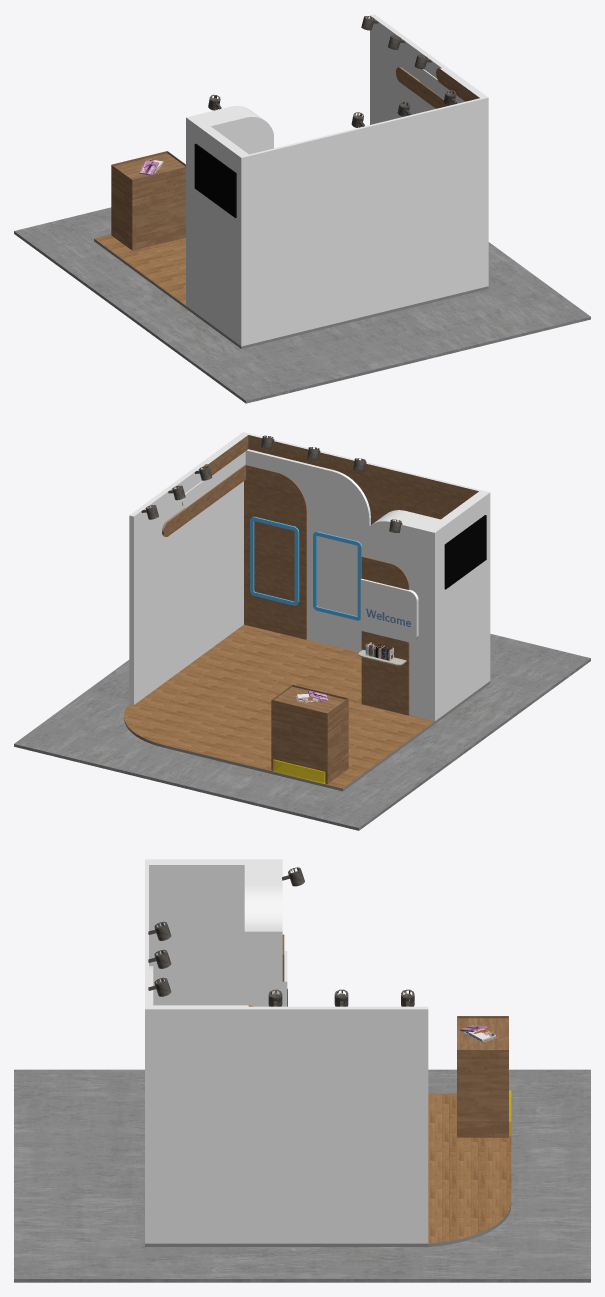
File: stand.glb
3 renders of one model, top to bottom at view 1: azimuth 30°, elevation 25°; view 2: azimuth 150°, elevation 25°; view 3: azimuth 270°, elevation 25°, orthographic. The views are drawn at different scales.
Visible parts, largest first — view 1: Material2.004, Material2.003, Material3, Material2.002, Cube, Material2.001, Material2.039; view 2: Material2.004, Material2.003, Material3, Material2.002, Material2.044, Cube, Material2.001, Material2.039, Material2.005; view 3: Material2.004, Material2.003, Material2.002, Material3, Material2.039, Material2.001.
Boxes of the visible parts, left/top/right/bottom form: Material2.004: left=186, top=14, right=488, bottom=346; Material2.003: left=14, top=207, right=590, bottom=403; Material3: left=111, top=67, right=479, bottom=250; Material2.002: left=94, top=234, right=185, bottom=305; Cube: left=194, top=143, right=236, bottom=218; Material2.001: left=94, top=239, right=488, bottom=348; Material2.039: left=208, top=16, right=456, bottom=127; Material2.004: left=129, top=432, right=490, bottom=721; Material2.003: left=14, top=633, right=590, bottom=830; Material3: left=164, top=435, right=478, bottom=783; Material2.002: left=124, top=624, right=434, bottom=788; Material2.044: left=250, top=516, right=361, bottom=620; Cube: left=444, top=515, right=486, bottom=589; Material2.001: left=124, top=681, right=490, bottom=791; Material2.039: left=141, top=435, right=402, bottom=532; Material2.005: left=273, top=759, right=325, bottom=783; Material2.004: left=145, top=859, right=428, bottom=1243; Material2.003: left=14, top=1069, right=590, bottom=1282; Material2.002: left=428, top=1093, right=511, bottom=1243; Material3: left=248, top=934, right=508, bottom=1137; Material2.039: left=148, top=867, right=414, bottom=1006; Material2.001: left=145, top=1203, right=511, bottom=1246.
Size of the model in its own units: 162 by 91.94 by 189.
42 materials, 30 textured.
